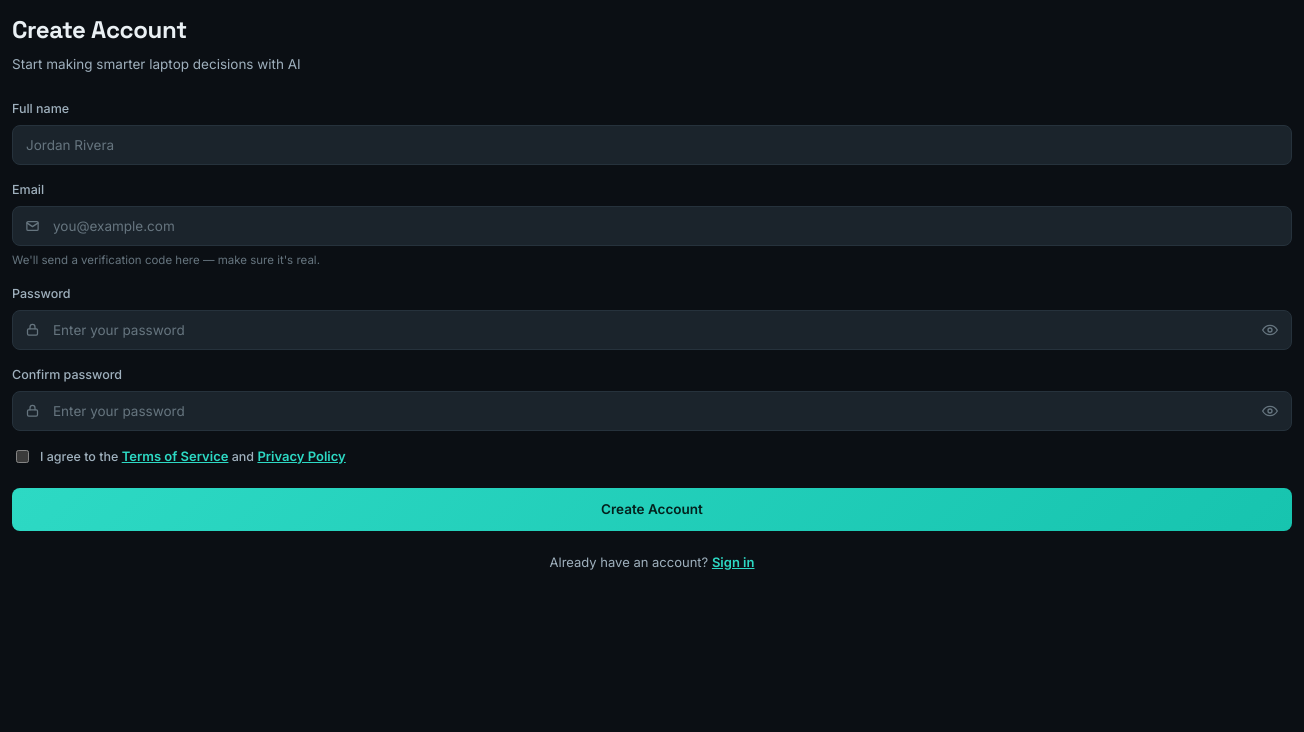
Test: RegisterForm — two-step email OTP verification › moves to the OTP step after a successful registerStart, without navigating yet
Type "Alice Rivera" into the field labelled "Full name".
click(652, 145); type("Alice Rivera")  # box [12, 125, 1292, 165]
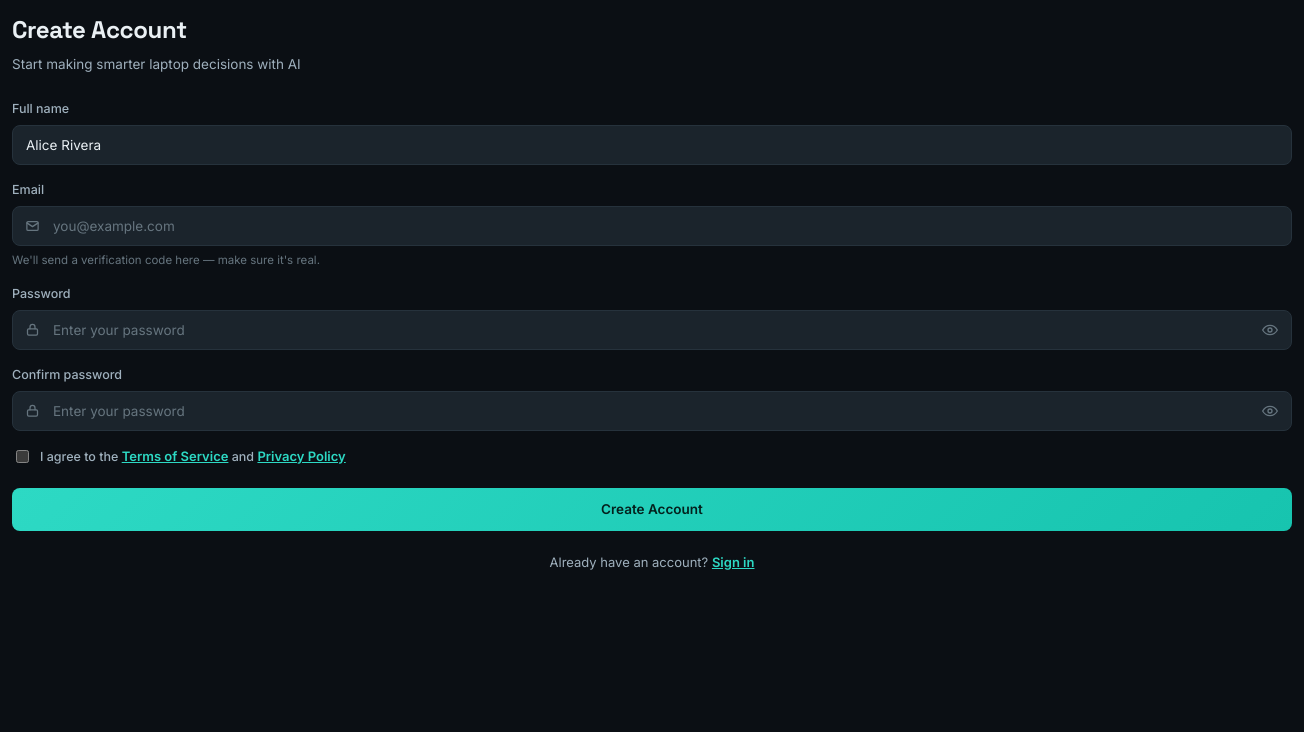
Type "alice@example.com" into the field labelled "Email".
click(652, 226); type("alice@example.com")  # box [12, 206, 1292, 246]
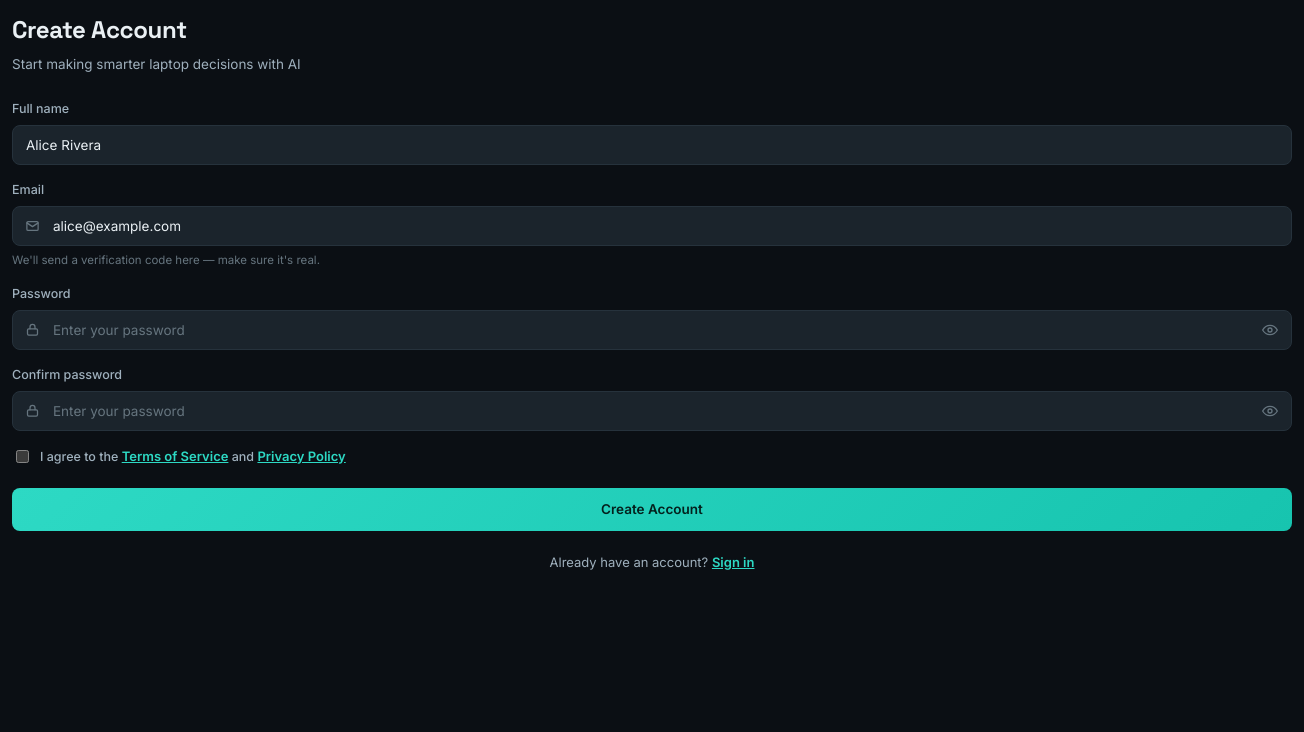
Type "StrongPass1" into the password field labelled "Password".
click(652, 330); type("StrongPass1")  # box [12, 310, 1292, 350]
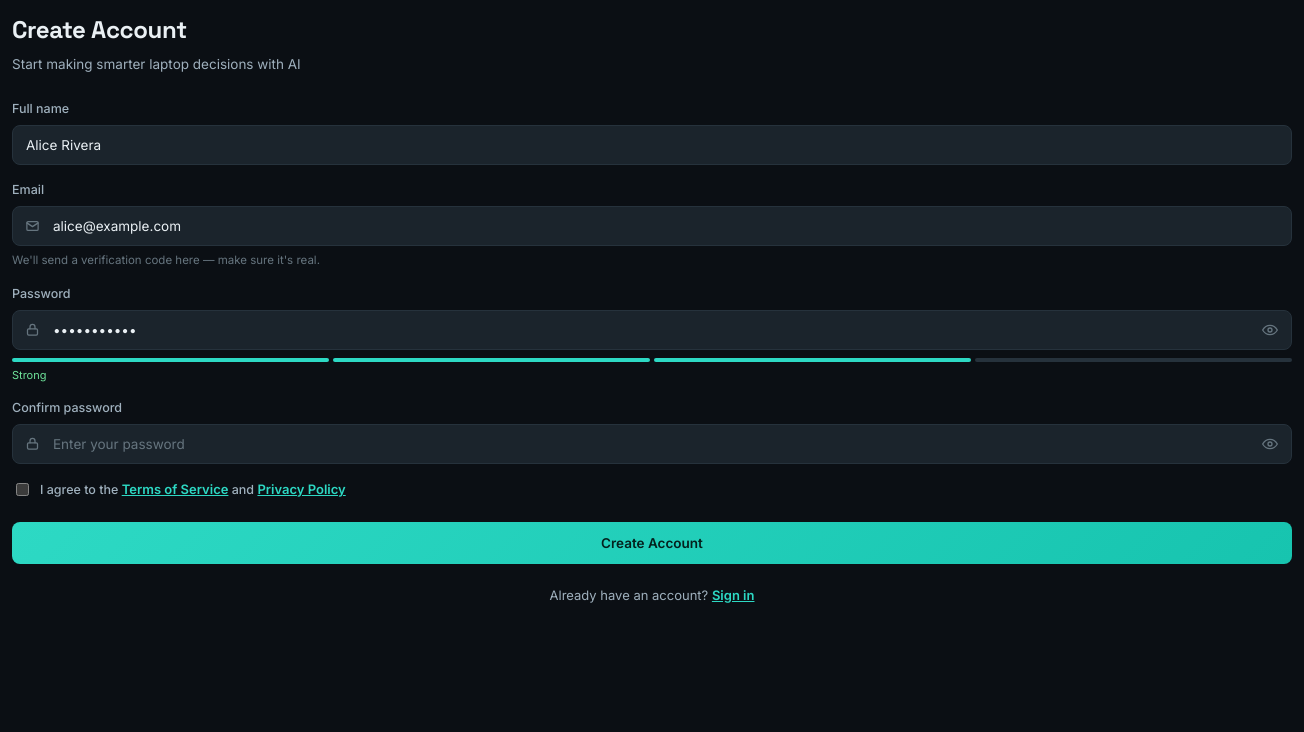
Type "StrongPass1" into the password field labelled "Confirm password".
click(652, 444); type("StrongPass1")  # box [12, 424, 1292, 464]
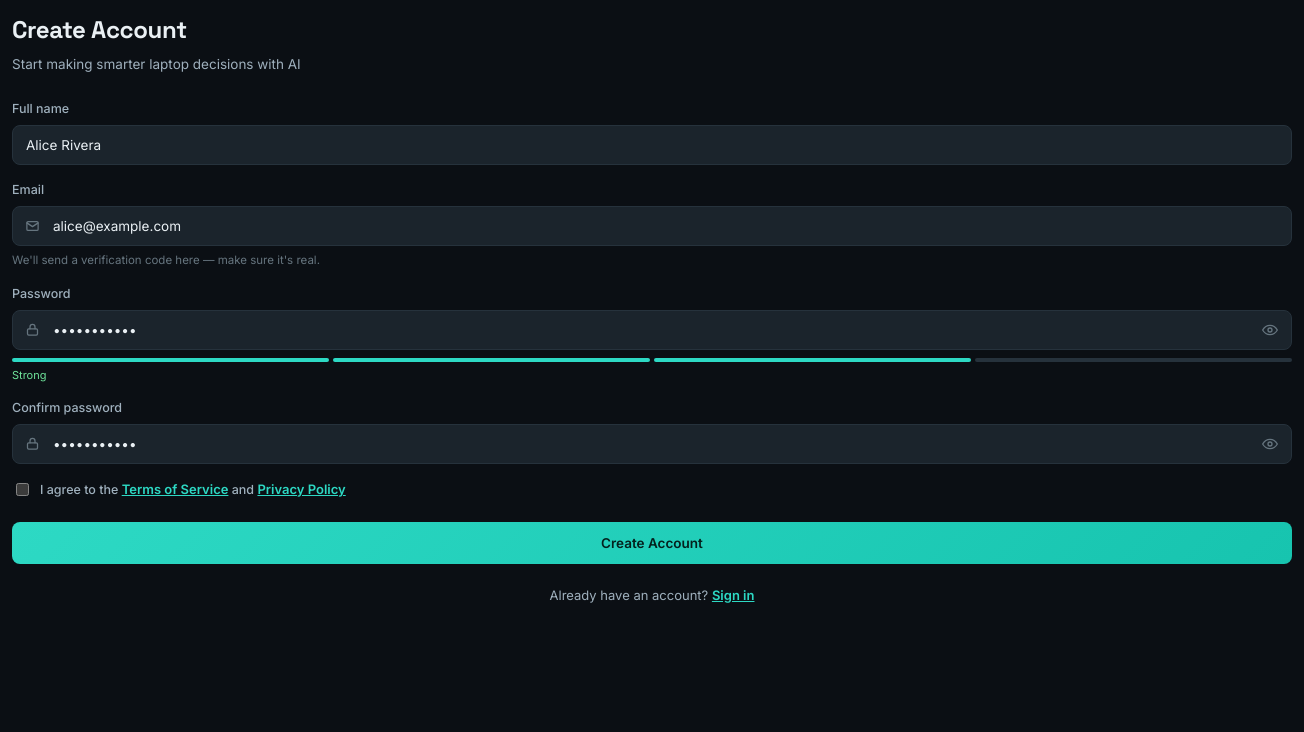
Click the checkbox labelled "I agree to the Terms of Service and Privacy Policy".
click(22, 490)  # box [16, 483, 29, 496]
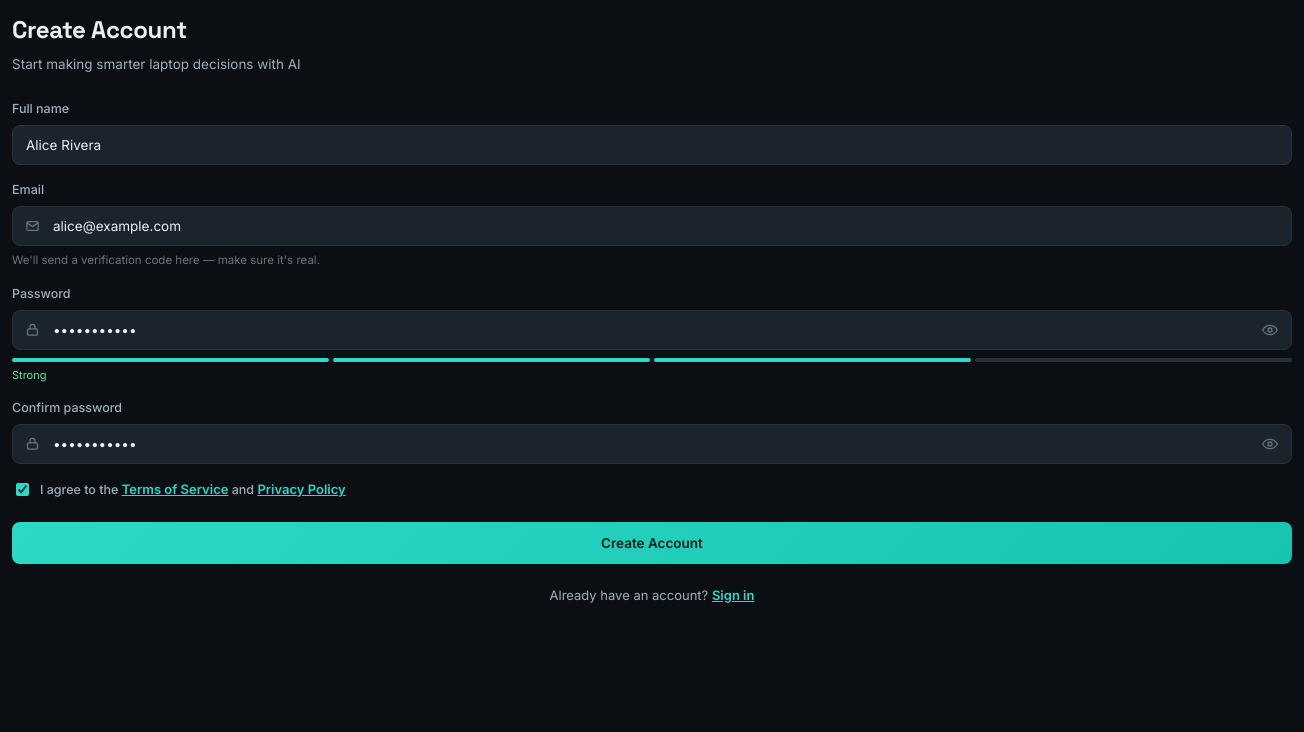
Click the button "Create Account".
click(652, 543)  # box [12, 522, 1292, 564]
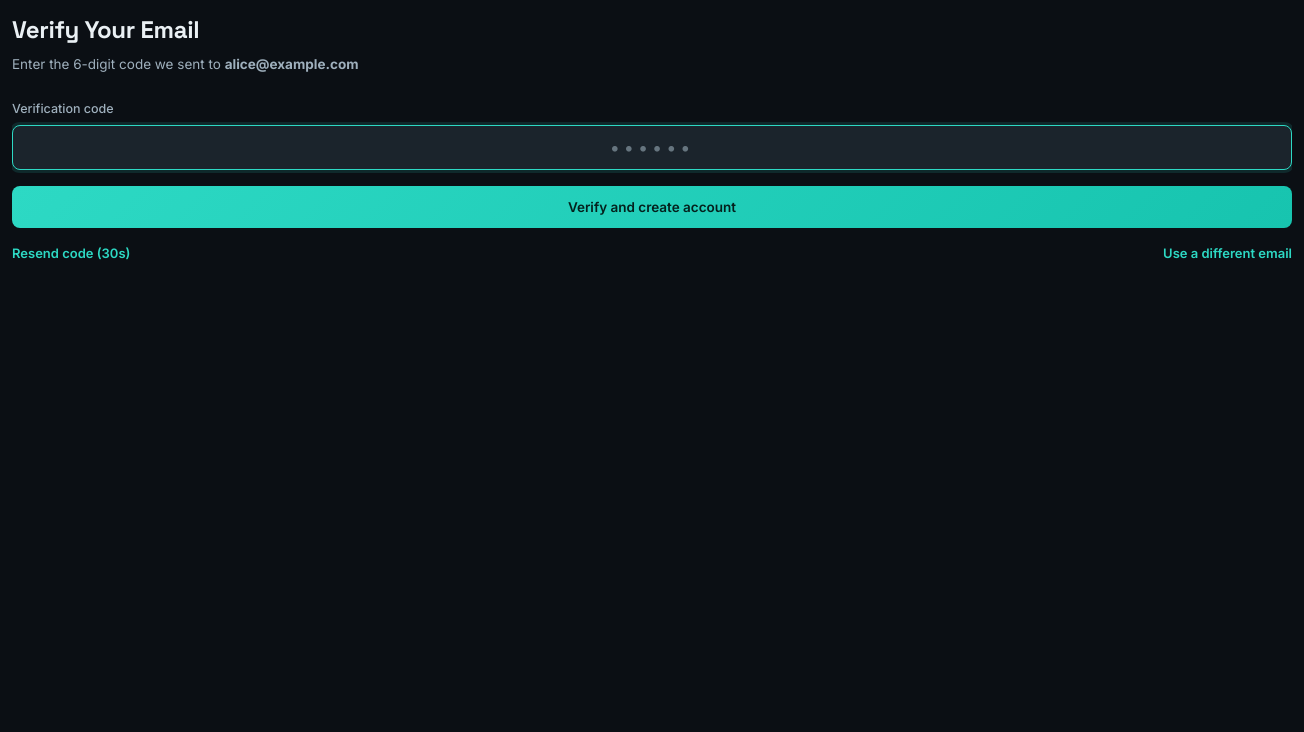
Now the heading "Verify Your Email" is shown, box [12, 14, 199, 45]
Now the text "alice@example.com" is shown, box [225, 56, 359, 72]
